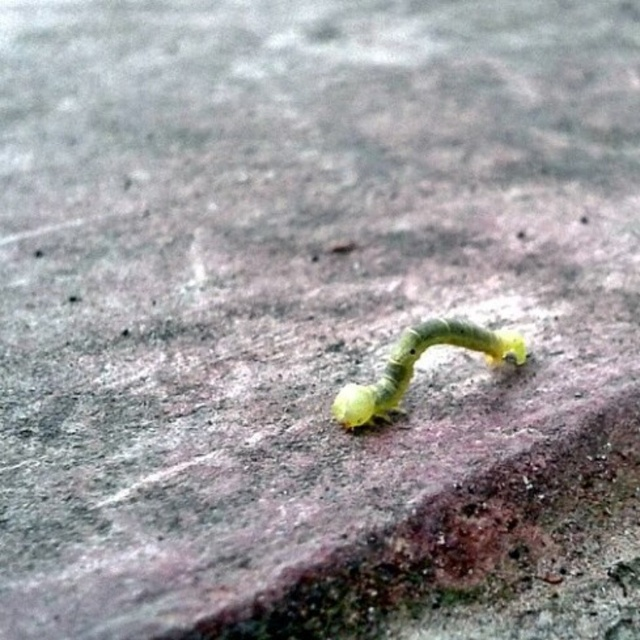Caterpillar: (338, 321, 537, 427)
